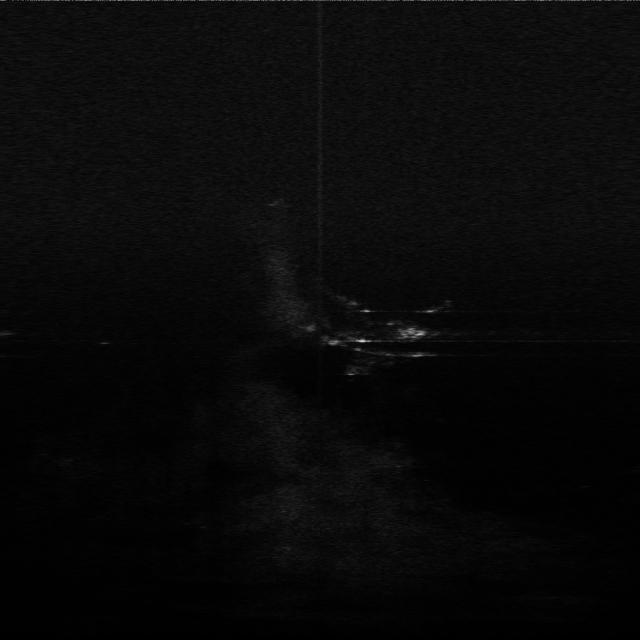rov: (396, 325, 430, 341)
